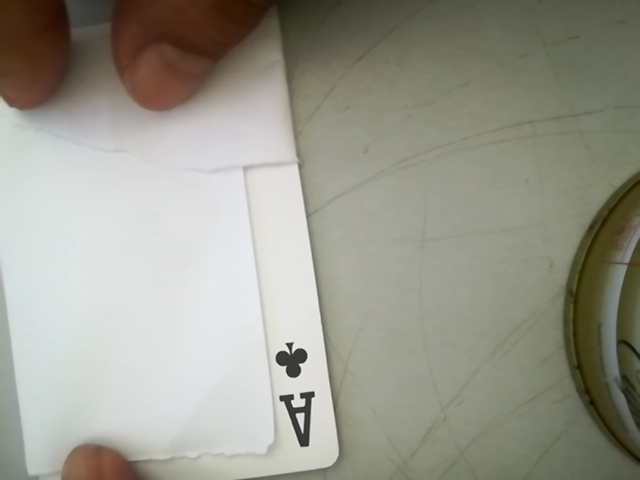mh a: (258, 327, 331, 453)
